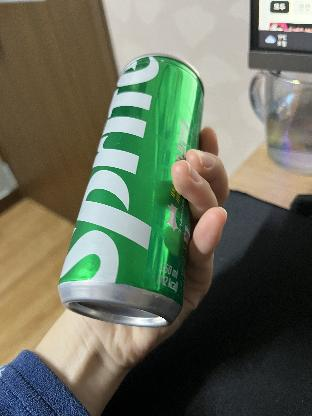Can: (58, 52, 208, 330)
